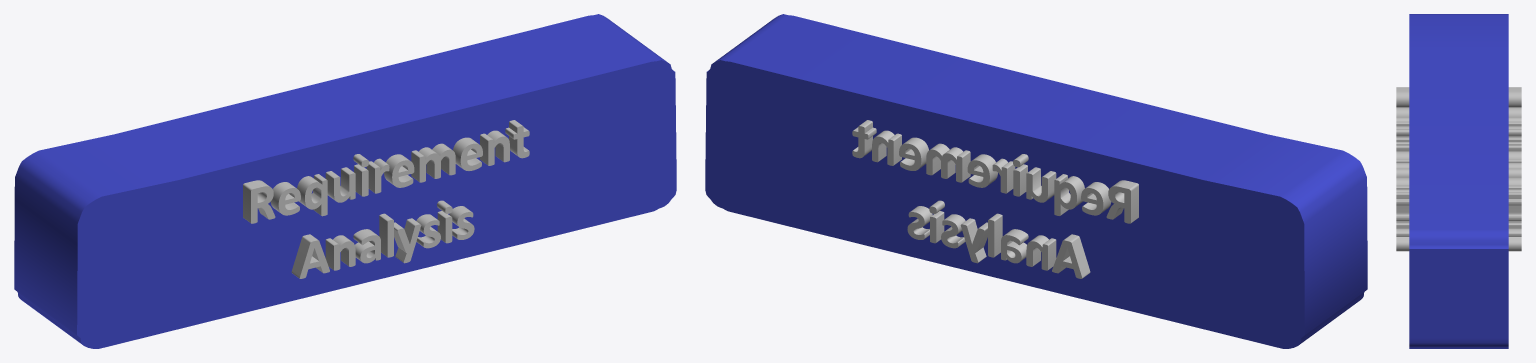
Rendered from reanamodel.fbx.
3 renders of one model, left to right at view 1: azimuth 30°, elevation 25°; view 2: azimuth 150°, elevation 25°; view 3: azimuth 270°, elevation 25°, orthographic. The views are drawn at different scales.
Parts seen in each view (by area): view 1: root, node_id46 (×2); view 2: root, node_id46 (×2); view 3: root, node_id46 (×2).
Part boxes in pixels (x1,y1,x2,y2): root: [14, 14, 676, 348]; node_id46 (×2): [243, 120, 529, 278]; root: [705, 14, 1367, 348]; node_id46 (×2): [852, 120, 1138, 278]; root: [1409, 14, 1508, 348]; node_id46 (×2): [1396, 87, 1521, 251].
Size of the model in its own units: 0.4211 by 0.1022 by 0.0965.
